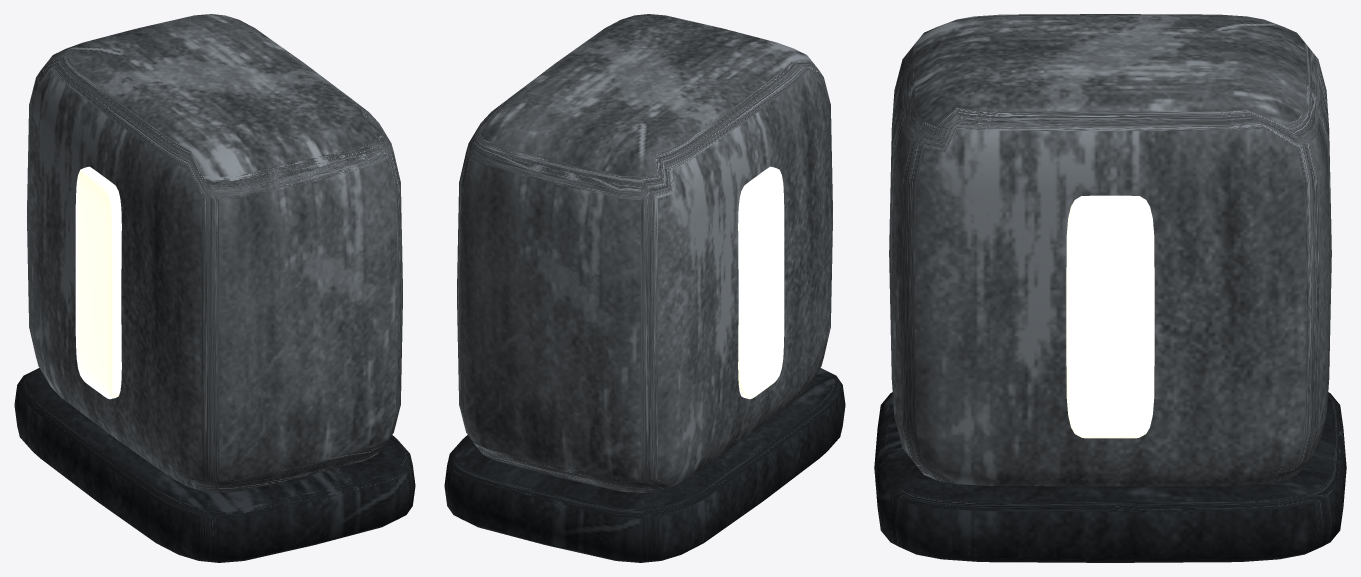
Rendered from br9_cell.glb.
The picture shows the model from 3 angles, left to right: view 1: azimuth 30°, elevation 25°; view 2: azimuth 150°, elevation 25°; view 3: azimuth 270°, elevation 25°; orthographic projection. The views are drawn at different scales.
Parts seen in each view (by area): view 1: br9_cell; view 2: br9_cell; view 3: br9_cell.
Part boxes in pixels (x1=…): br9_cell: x1=14, y1=14, x2=415, y2=562; br9_cell: x1=444, y1=14, x2=845, y2=562; br9_cell: x1=874, y1=14, x2=1346, y2=562.
Bounding box in the file's own units: 0.044 × 0.068 × 0.064.
Materials: 2 (1 with a texture image).
